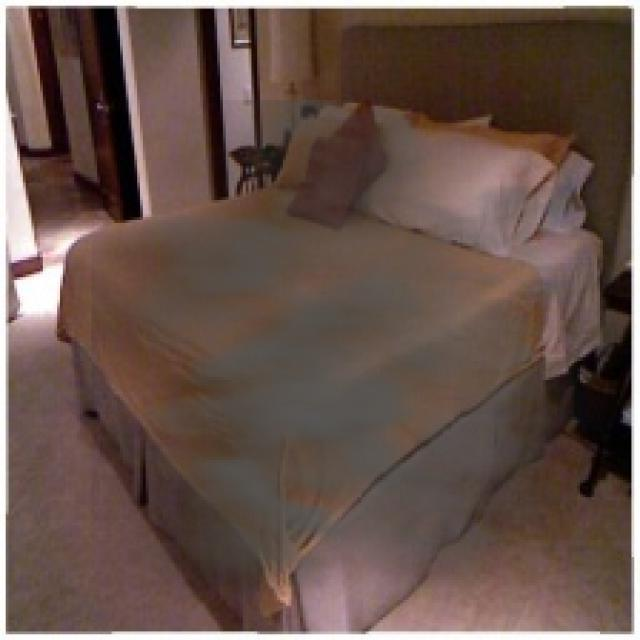Smoke: (91, 100, 632, 623)
